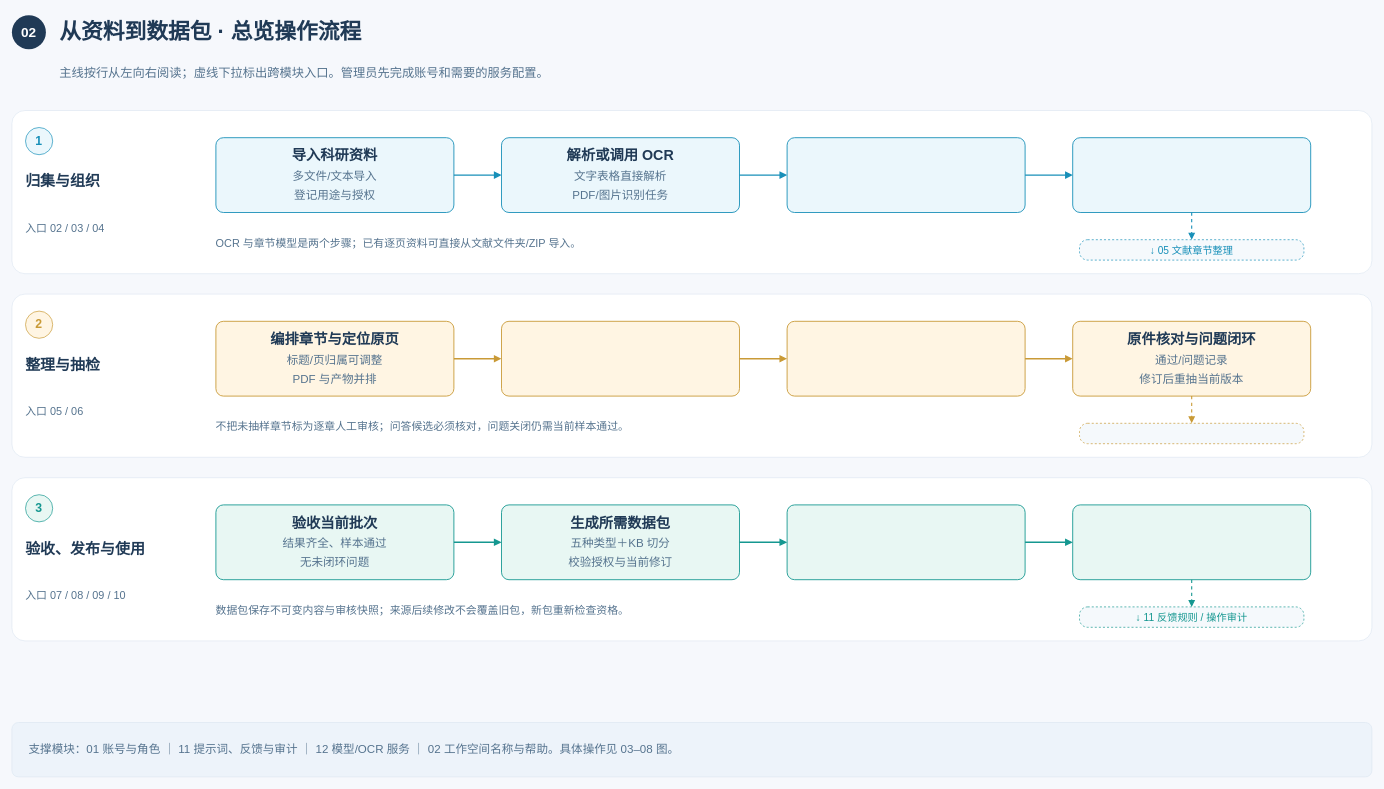
Some shapes in this 1384 by 789 pixel diagram are drawn without their labels. The centre of each missing label's shape, as x and y in pixels:
"↓ 06 验收批次 → 07 生成包" goes at point (1191, 433).
"下载或检索成果 原件/版本追溯 授权知识库关键词检索" goes at point (1191, 542).
"保留逐页资料 Markdown/JSON＋原图 关联或补传 PDF" goes at point (1191, 175).
"建立批次与分层抽样 文献类型 × 内容类型 固定抽样修订" goes at point (905, 358).
"查看、发布与授权 内容/文件/来源/统计 管理员设置开放范围" goes at point (905, 542).
"模型或人工整理 正文、图像、独立解读 有证据的结构字段" goes at point (620, 358).
"进入三级目录 数据源 → 物种/条目 → 文献" goes at point (905, 175).
